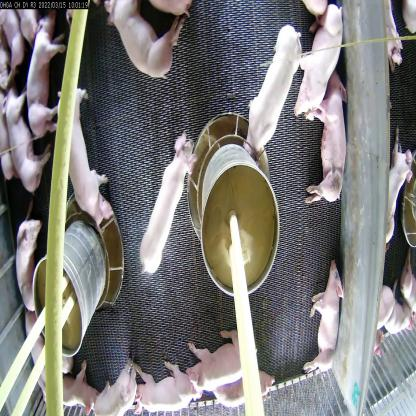Pig: (242, 5, 303, 172), (133, 121, 197, 277), (53, 76, 108, 232), (306, 57, 351, 227), (183, 324, 257, 406), (100, 1, 182, 74), (3, 81, 54, 196), (299, 2, 345, 127), (307, 249, 348, 385), (25, 11, 71, 129), (129, 348, 203, 414), (383, 114, 415, 259), (11, 212, 47, 320)
